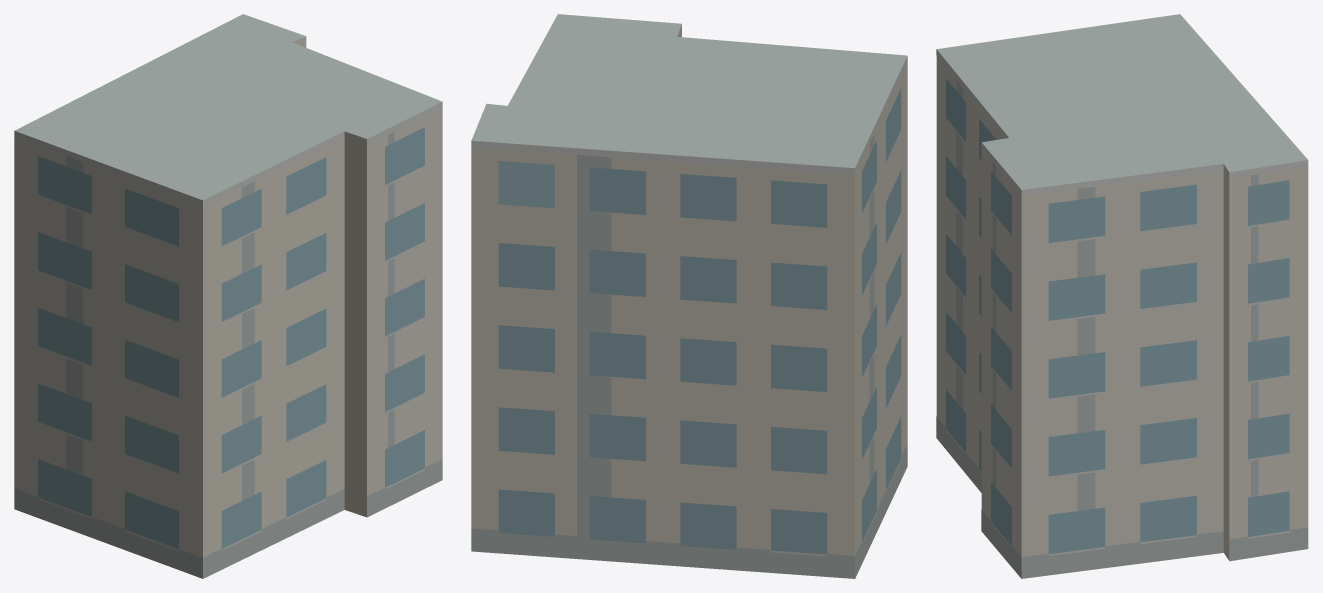
Rendered from survey-upis-32863656.glb.
3 renders of one model, left to right at view 1: azimuth 30°, elevation 25°; view 2: azimuth 150°, elevation 25°; view 3: azimuth 270°, elevation 25°, orthographic. The views are drawn at different scales.
Parts seen in each view (by area): view 1: survey-upis-32863656.tmp; view 2: survey-upis-32863656.tmp; view 3: survey-upis-32863656.tmp.
Part boxes in pixels (x1,y1,x2,y2): survey-upis-32863656.tmp: (14, 14, 442, 578); survey-upis-32863656.tmp: (471, 14, 907, 578); survey-upis-32863656.tmp: (936, 14, 1308, 578).
Size of the model in its own units: 14.81 by 15.25 by 13.23.
